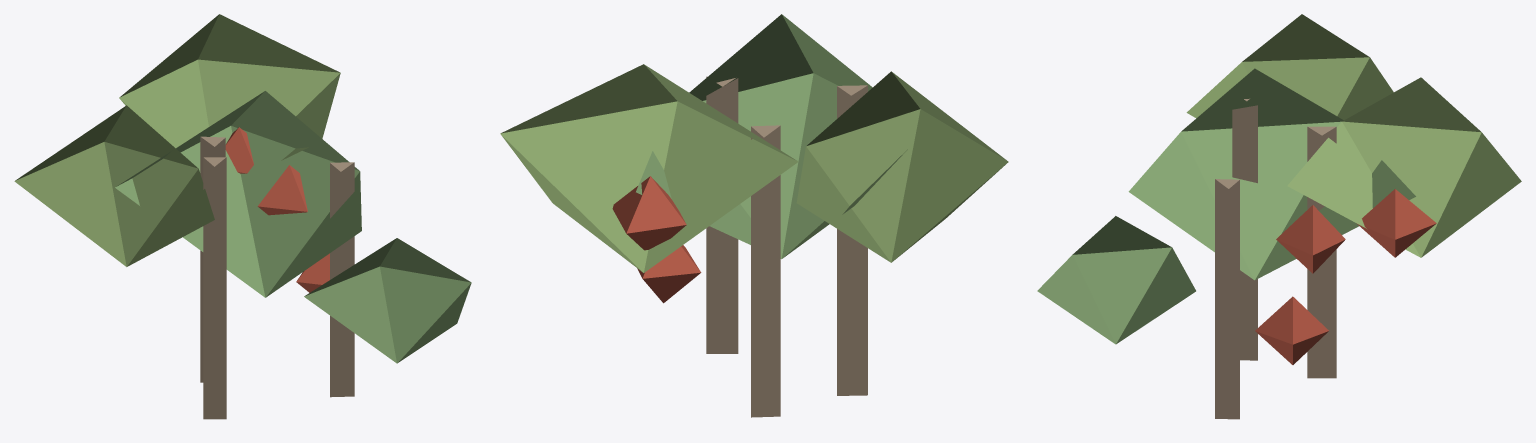
Rendered from shrub.temp.bush__spring.glb.
The picture shows the model from 3 angles, left to right: view 1: azimuth 30°, elevation 25°; view 2: azimuth 150°, elevation 25°; view 3: azimuth 270°, elevation 25°; orthographic projection. The views are drawn at different scales.
Parts seen in each view (by area): view 1: shrub.temp.bush__spring; view 2: shrub.temp.bush__spring; view 3: shrub.temp.bush__spring.
Boxes of the visible parts, x1,y1,x2,y2 form: shrub.temp.bush__spring: (14,14,471,419); shrub.temp.bush__spring: (500,14,1008,417); shrub.temp.bush__spring: (1037,14,1521,419).
Size of the model in its own units: 1.94 by 1.71 by 2.27.
